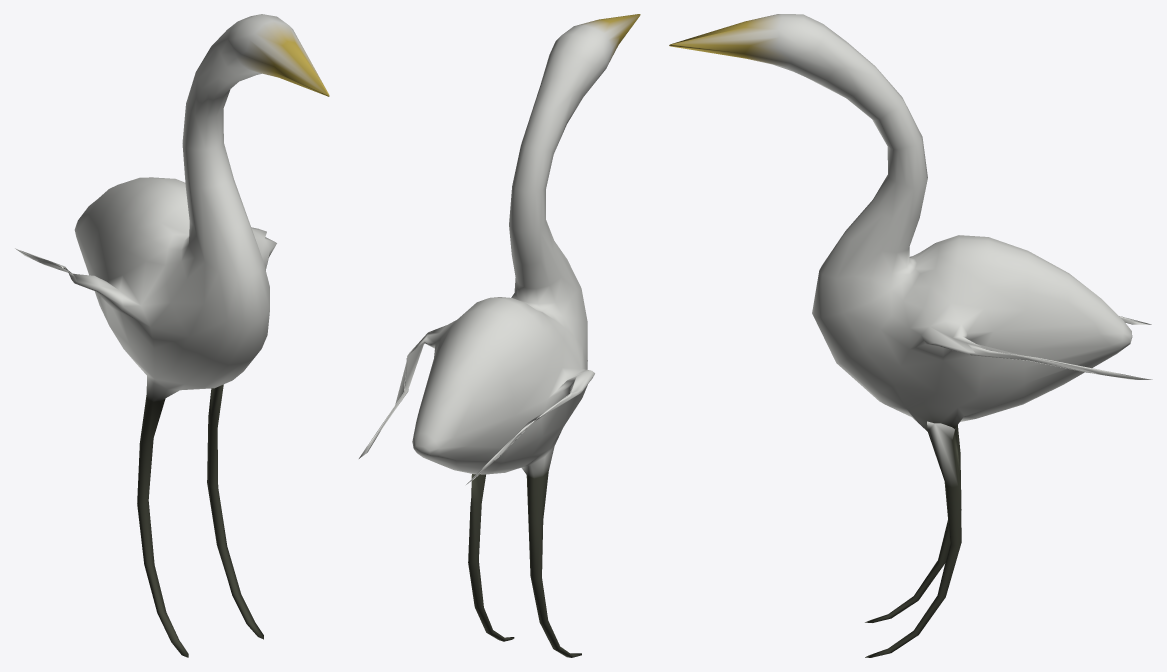
The model's file is grey-heron-0.glb.
3 renders of one model, left to right at view 1: azimuth 30°, elevation 25°; view 2: azimuth 150°, elevation 25°; view 3: azimuth 270°, elevation 25°, orthographic. The views are drawn at different scales.
Visible parts, largest first — view 1: grey-heron; view 2: grey-heron; view 3: grey-heron.
Boxes of the visible parts, left/top/right/bottom form: grey-heron: left=15, top=14, right=329, bottom=657; grey-heron: left=359, top=14, right=640, bottom=657; grey-heron: left=669, top=14, right=1152, bottom=657.
Size of the model in its own units: 0.3178 by 1.07 by 0.7505.
